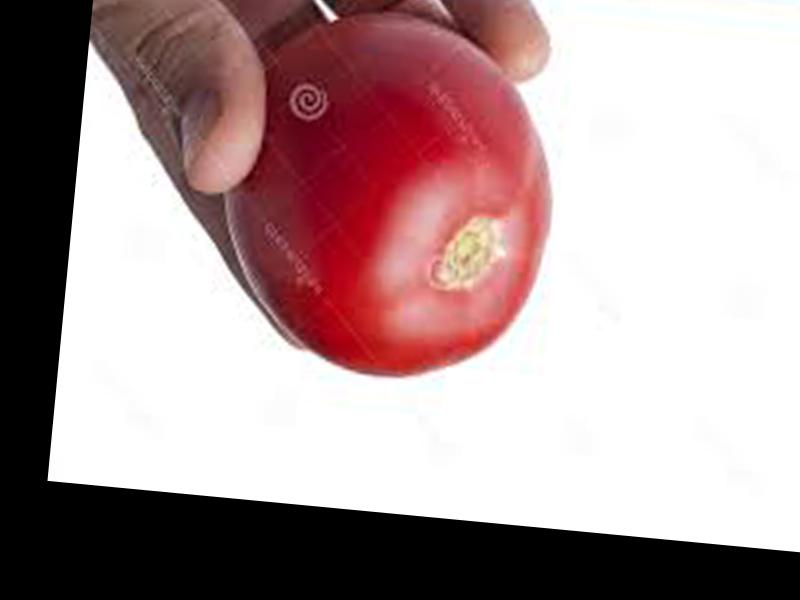Tomato: (208, 0, 566, 390)
